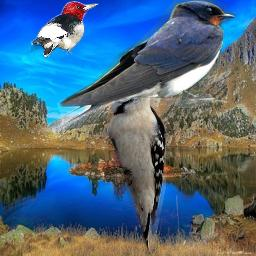Swallow: (37, 0, 236, 138)
Woodpecker: (103, 75, 166, 252), (31, 1, 100, 58)
